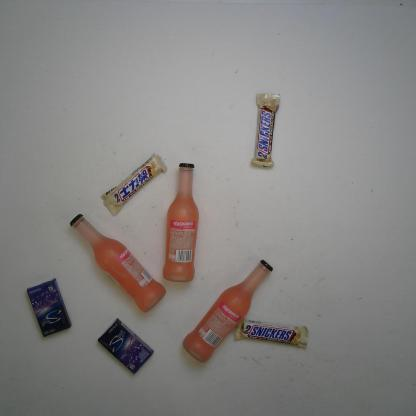Alcohol: (66, 209, 170, 314), (177, 257, 279, 364), (160, 157, 202, 285)
Chocolate: (101, 152, 168, 217), (243, 91, 292, 169), (232, 312, 314, 353)
Gum: (95, 315, 156, 376), (24, 275, 72, 338)
